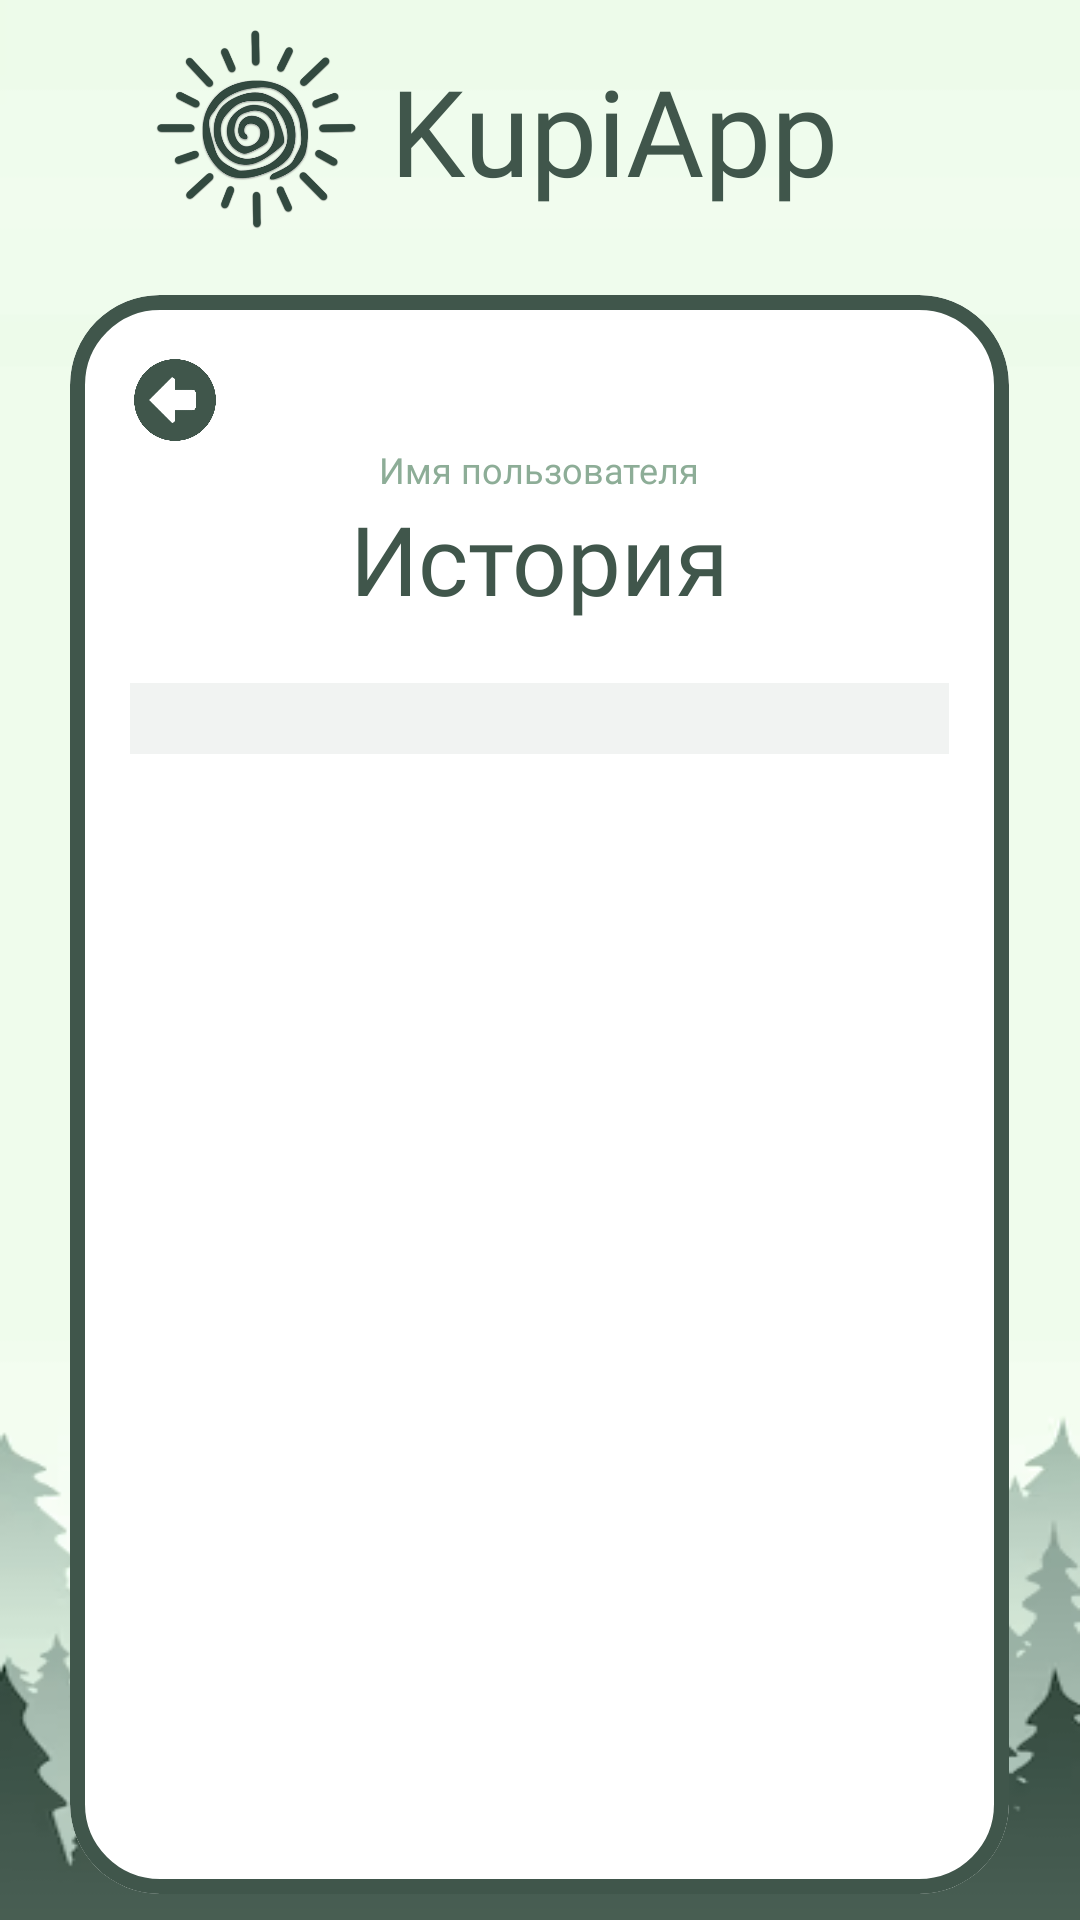

Icons on this 1080×1920 Android screen, each with the point to tap as (x=x, y=y):
back: (x=175, y=400)
